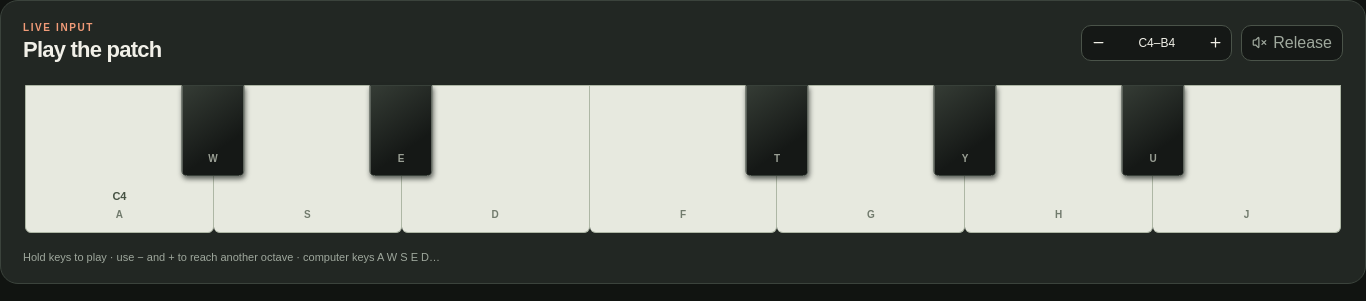
Scenario: performance controls (React DOM in jsdom) › shows one complete octave on phone viewport and reaches the next with octave up
Expected: the element named "One octave piano keyboard, C4 to B4" is shown, [25,85,1341,233]
Expected: the button named "Play B4" is shown, [1153,85,1341,233]
Click the button named "Octave up" at x=1215, y=43, box [1199,26,1231,60]
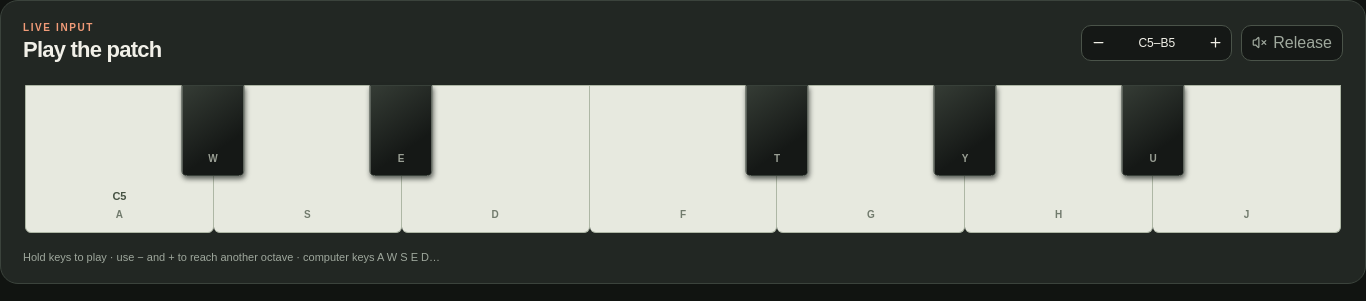
Expected: the button named "Play C5" is shown, [25,85,214,233]
Result: the element named "One octave piano keyboard, C5 to B5" is shown at [25,85,1341,233]
